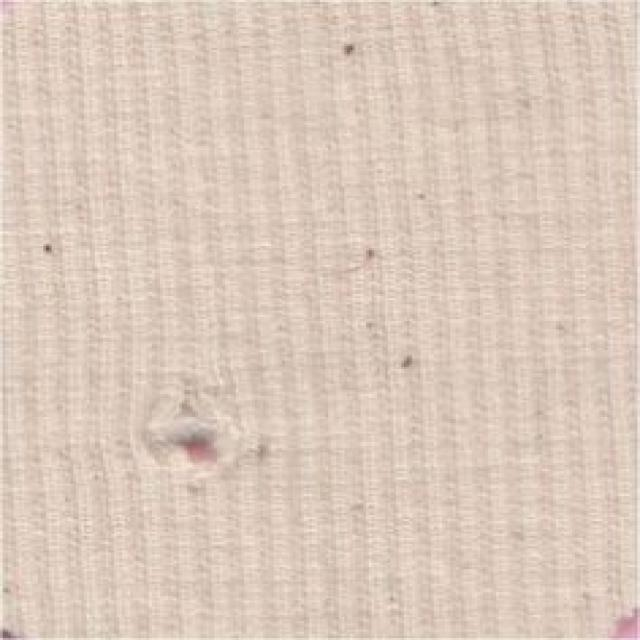other: (144, 380, 244, 471)
